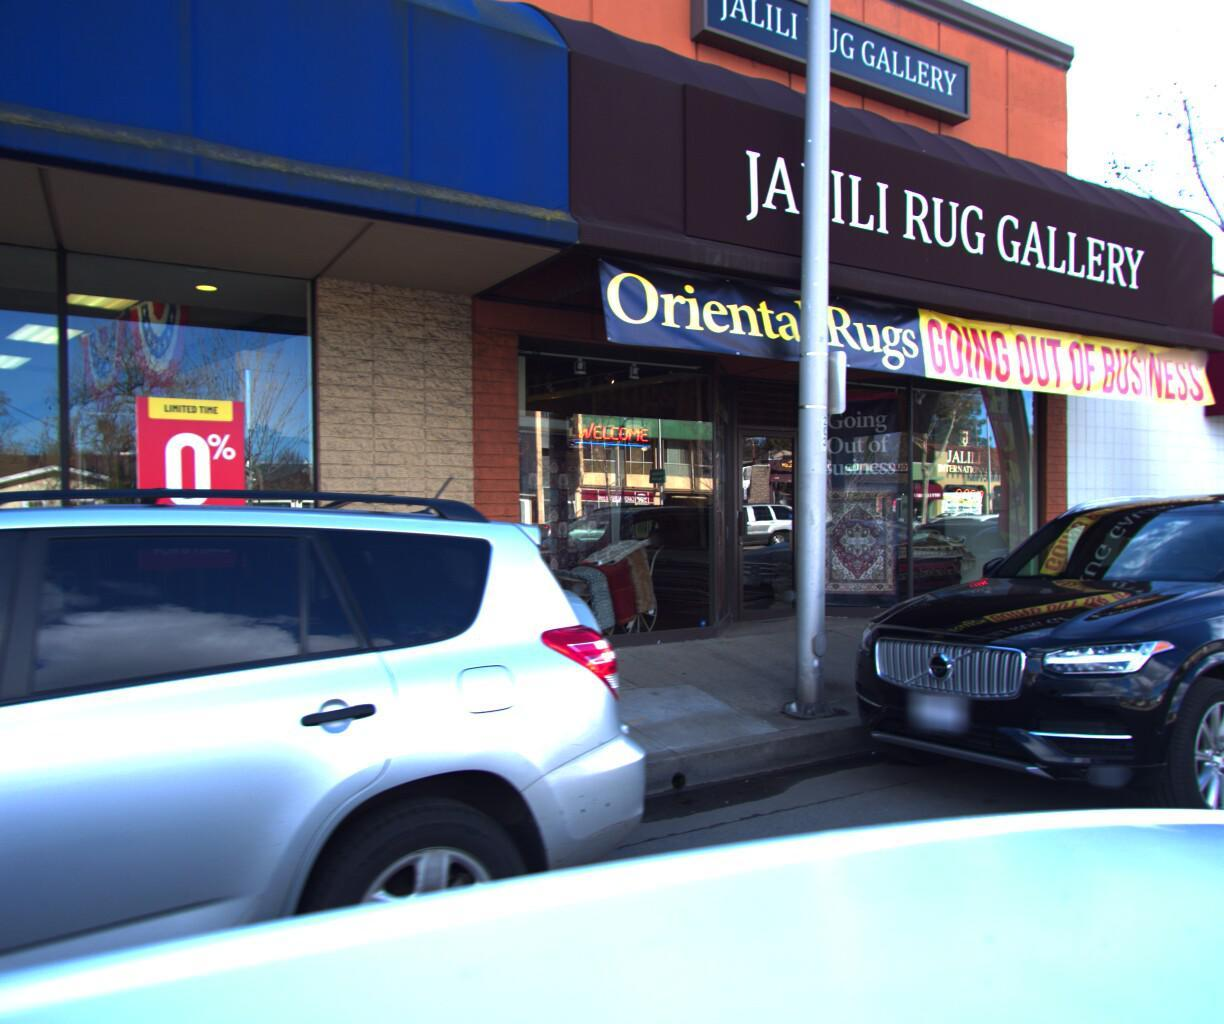car: (0, 390, 712, 1024), (811, 468, 1224, 894)
